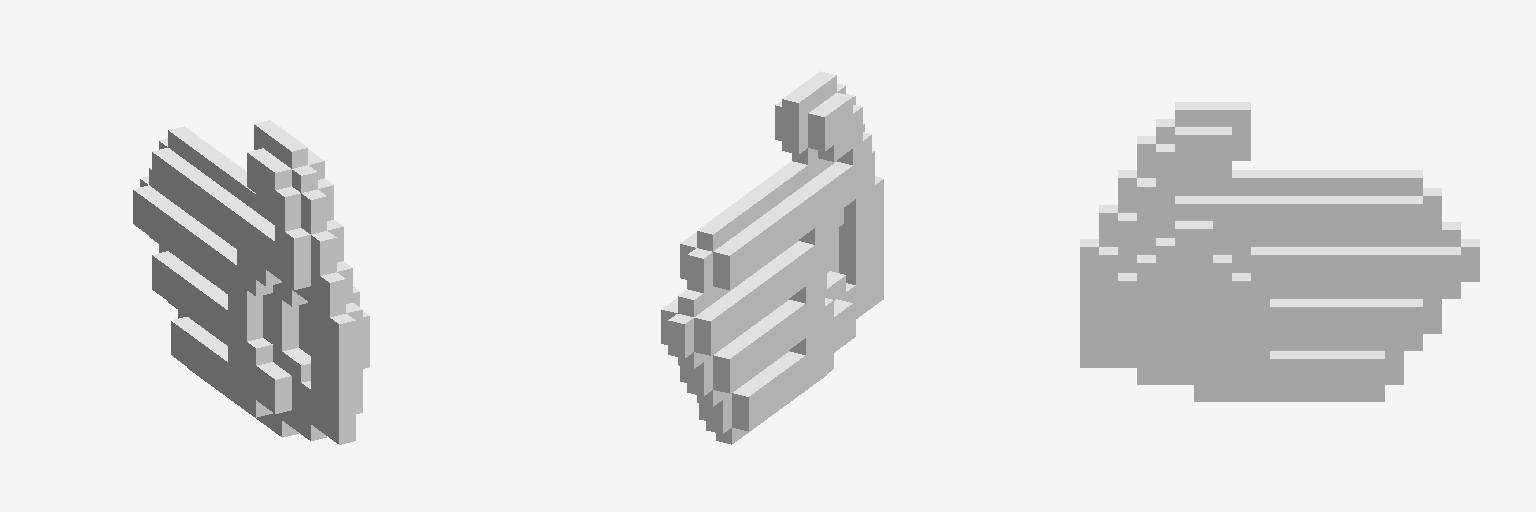
File: hand_closed.obj
3 views of the same model, side by side, from view 1: azimuth 30°, elevation 25°; view 2: azimuth 150°, elevation 25°; view 3: azimuth 270°, elevation 25° (orthographic).
Parts seen in each view (by area): view 1: hand_closed; view 2: hand_closed; view 3: hand_closed.
Boxes of the visible parts, <box> form: hand_closed: <box>133,120,369,444</box>; hand_closed: <box>661,71,883,444</box>; hand_closed: <box>1080,102,1479,401</box>.
Size of the model in its own units: 4 by 17 by 21.